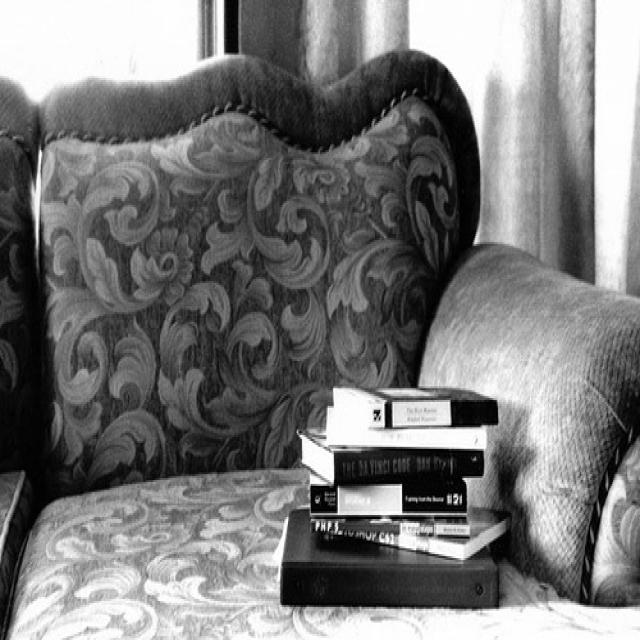sofa: (3, 47, 636, 638)
